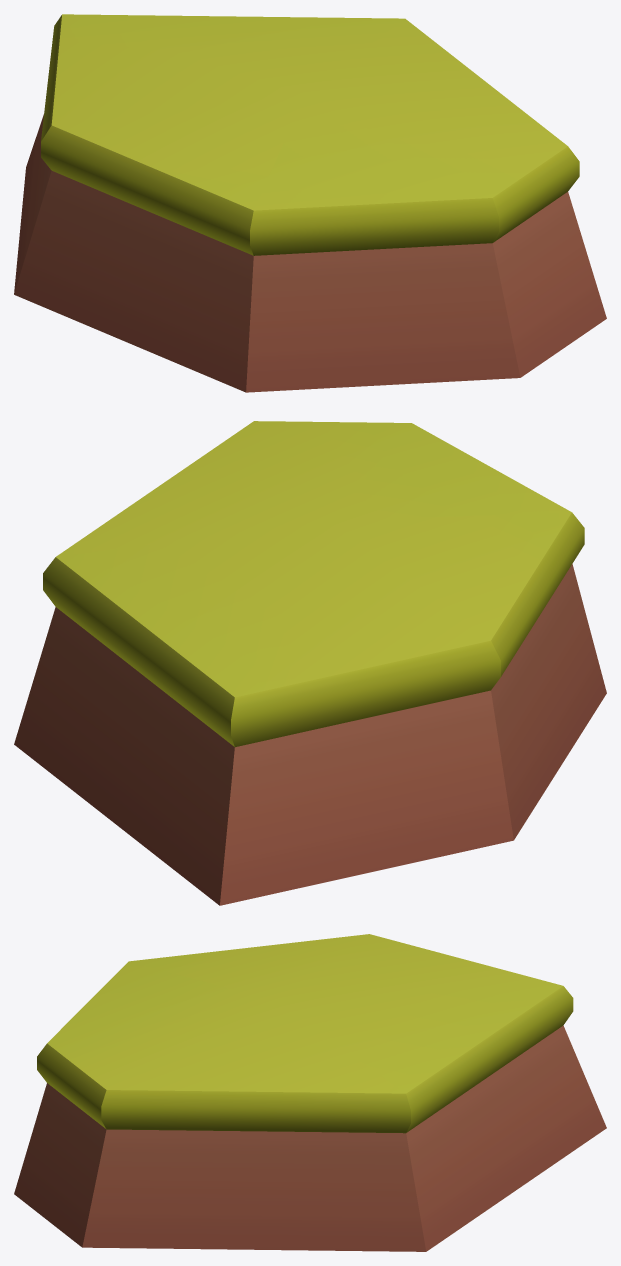
The model's file is hill-single-b.glb.
The picture shows the model from 3 angles, top to bottom: view 1: azimuth 30°, elevation 25°; view 2: azimuth 150°, elevation 25°; view 3: azimuth 270°, elevation 25°; orthographic projection. The views are drawn at different scales.
Parts seen in each view (by area): view 1: hill_single_B; view 2: hill_single_B; view 3: hill_single_B.
Part boxes in pixels (box(x1,y1,x2,y2)): hill_single_B: box(14, 14, 606, 392); hill_single_B: box(14, 421, 606, 905); hill_single_B: box(14, 934, 606, 1251).
Size of the model in its own units: 0.995 by 0.4187 by 1.36.
1 material, 1 textured.
